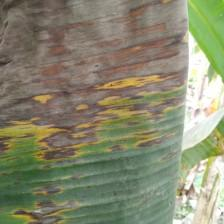sigatoka: (0, 0, 192, 224)
